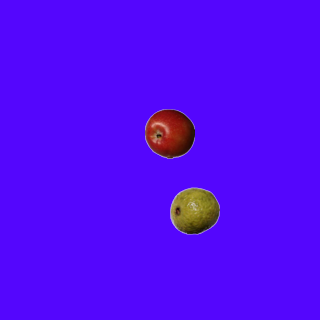Apple Braeburn: (144, 108, 194, 158)
Guava: (169, 185, 219, 235)
